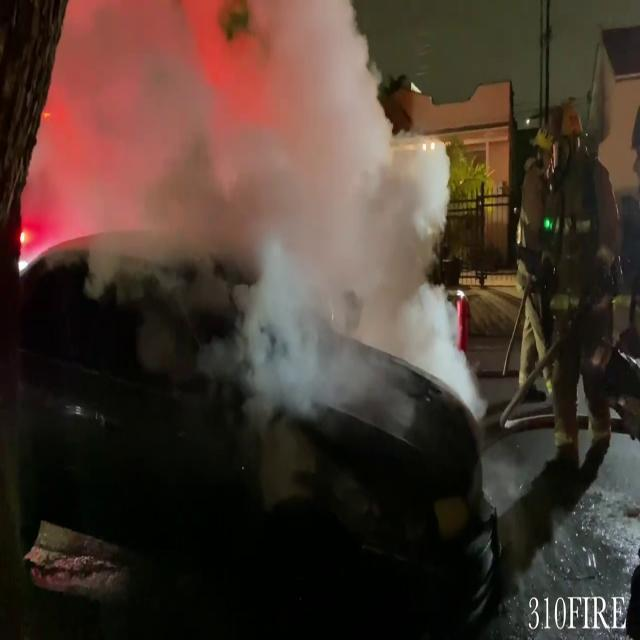Smoke: (36, 0, 468, 428)
